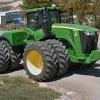Tractor: (7, 6, 100, 78)
